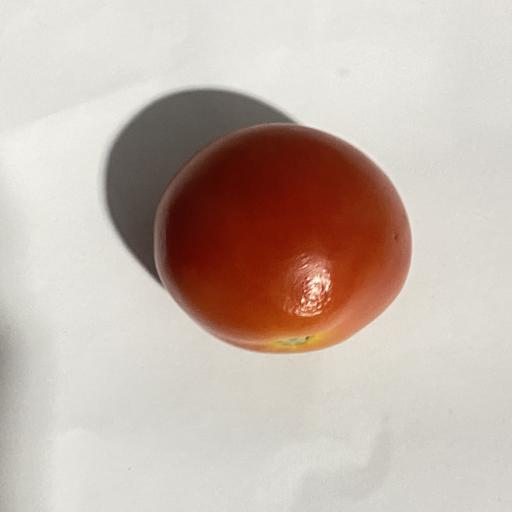overipe: (154, 124, 411, 353)
